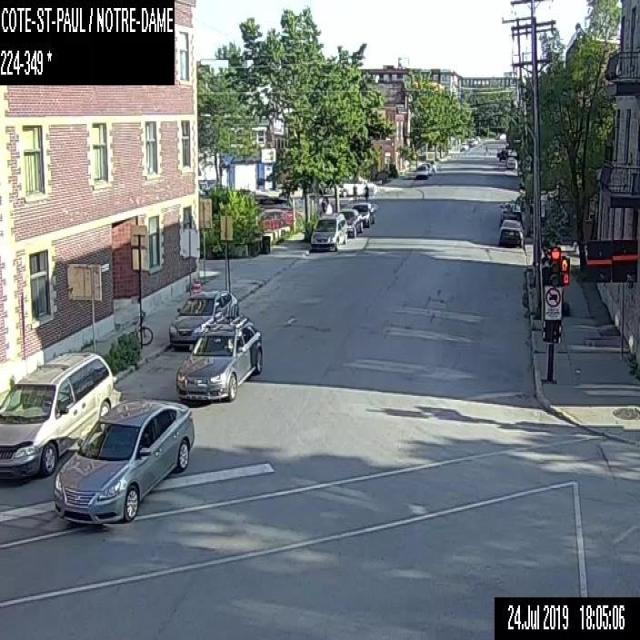pedestrian: (351, 183, 357, 201), (363, 183, 368, 200)
vehicle: (52, 401, 194, 525), (0, 351, 116, 481), (175, 312, 262, 402), (169, 288, 238, 349), (309, 213, 346, 251), (340, 174, 375, 196), (497, 218, 523, 247), (259, 208, 293, 228), (340, 208, 362, 236), (253, 196, 293, 211), (352, 202, 374, 226), (498, 201, 522, 221), (414, 163, 428, 179), (496, 146, 508, 161), (506, 156, 516, 170), (422, 162, 432, 174), (459, 142, 468, 151), (428, 160, 436, 170), (494, 132, 505, 138), (467, 139, 473, 146), (473, 138, 477, 145)
